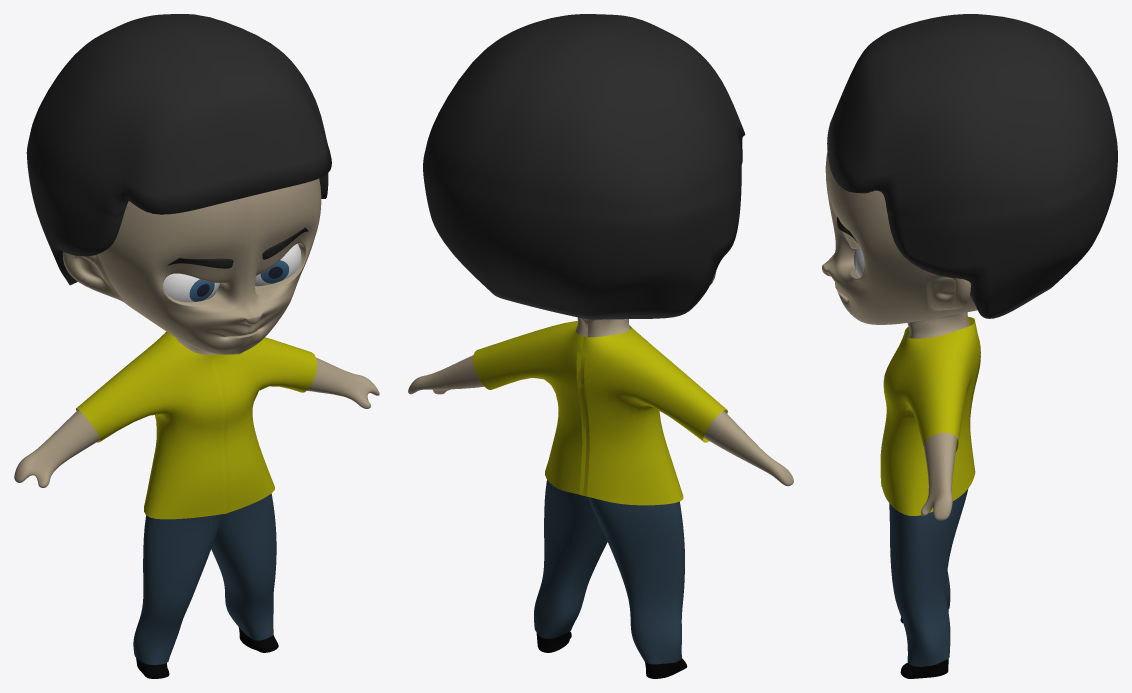
3 renders of one model, left to right at view 1: azimuth 30°, elevation 25°; view 2: azimuth 150°, elevation 25°; view 3: azimuth 270°, elevation 25°, orthographic. The views are drawn at different scales.
Parts seen in each view (by area): view 1: Hairs, Character, Shirt, Eyes, Eye Brow; view 2: Hairs, Shirt, Character; view 3: Hairs, Character, Shirt.
Boxes of the visible parts, x1=… form: Hairs: x1=26, y1=14, x2=331, y2=285; Character: x1=14, y1=178, x2=379, y2=678; Shirt: x1=76, y1=331, x2=317, y2=519; Eyes: x1=163, y1=243, x2=301, y2=302; Eye Brow: x1=167, y1=227, x2=308, y2=268; Hairs: x1=423, y1=14, x2=745, y2=319; Shirt: x1=473, y1=321, x2=727, y2=505; Character: x1=408, y1=271, x2=793, y2=678; Hairs: x1=827, y1=14, x2=1117, y2=318; Character: x1=822, y1=151, x2=977, y2=678; Shirt: x1=880, y1=316, x2=980, y2=516.
Size of the model in its own units: 284 by 457 by 199.
